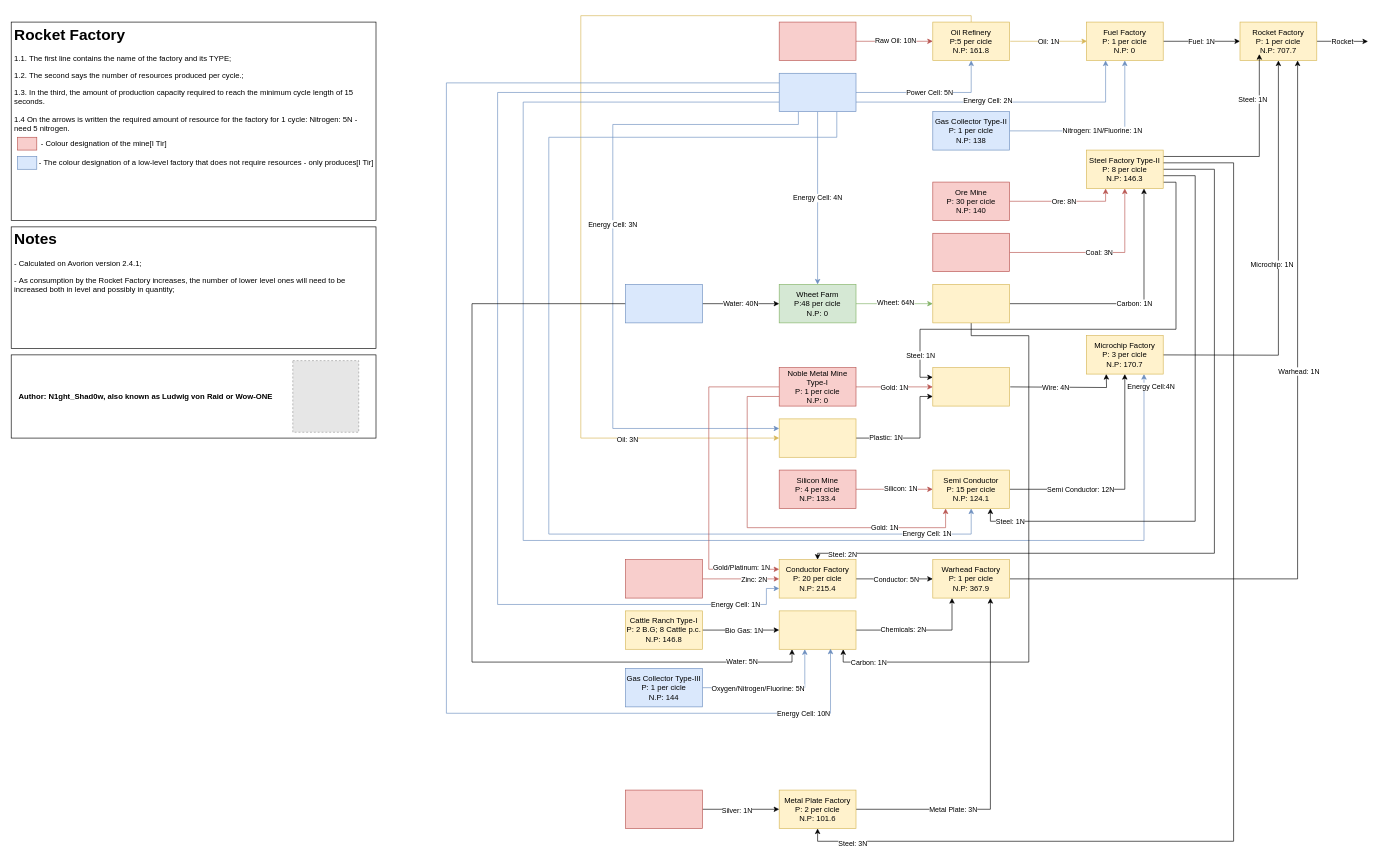
The diagram is 1384 pixels wide and 859 high, and some of its shapes have lost their labels. Grey dashed boxes stand in for pictures. Each missing label, with the centre of its shape:
Carbon Extractor P: 5 per cicle N.P: 138.3: the point at 971,303
Chemical Factory P: 1 adhes.; 2 ANOT. N.P: 234.2: the point at 817,629
Coal Mine P: 4 per cicle N.P: 0: the point at 971,252
Noble Metal Mine Type-II P: 1 per cicle N.P: 0: the point at 663,808
Oil Rig P: 5 per cicle N.P: 0: the point at 817,40
Plastic Manufacture P: 15 per cicle N.P: 134.4: the point at 817,437
Solar Power Plant P: 25 per cicle N.P: 0: the point at 817,92
Water Collector P: 75 per cicle N.P: 0: the point at 663,303
Wire Manufacture P: 15 per cicle N.P: 0: the point at 971,386
Zinc Mine P: 10 per cicle N.P: 166.7: the point at 663,578
